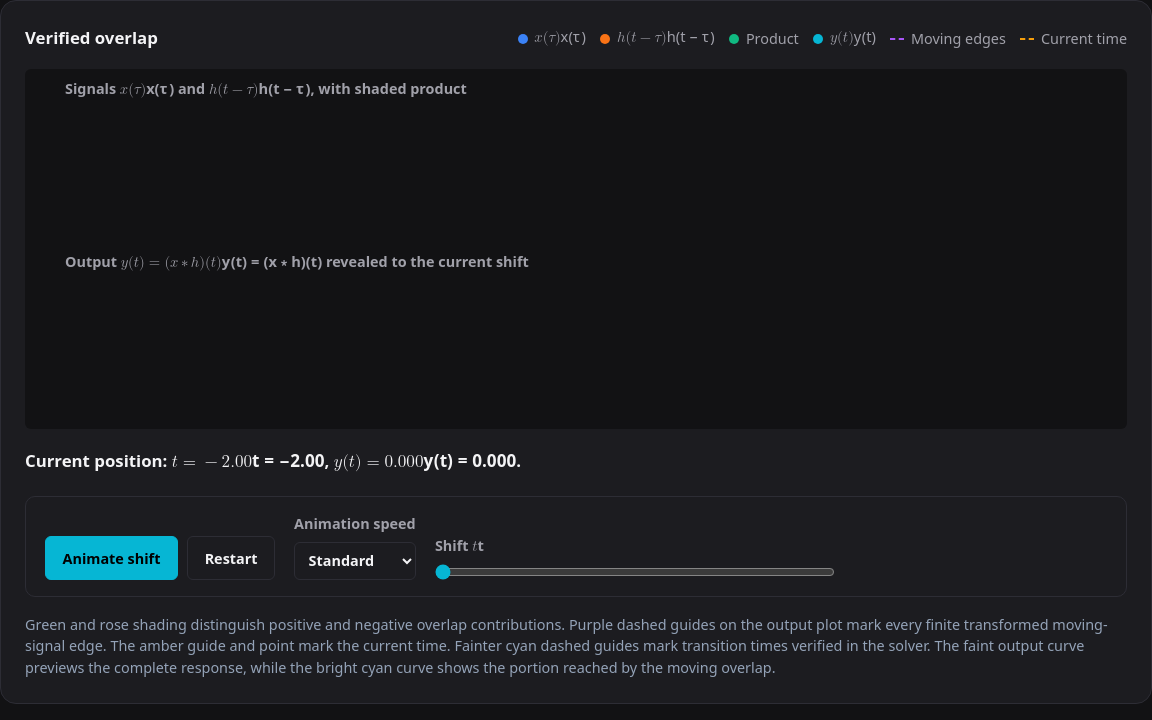
Test: ConvolutionCanvas › renders the instructional plot and supports play, speed, scrub, pause, and restart
Expected: the slider with id "shift-slider" holds "-2", [435, 564, 835, 580]
Expected: the text "Verified overlap" is shown, [25, 25, 158, 52]
Select "Fast" in the dropdown labelled "Animation speed" at {"x": 355, "y": 561}, box [294, 542, 416, 580]
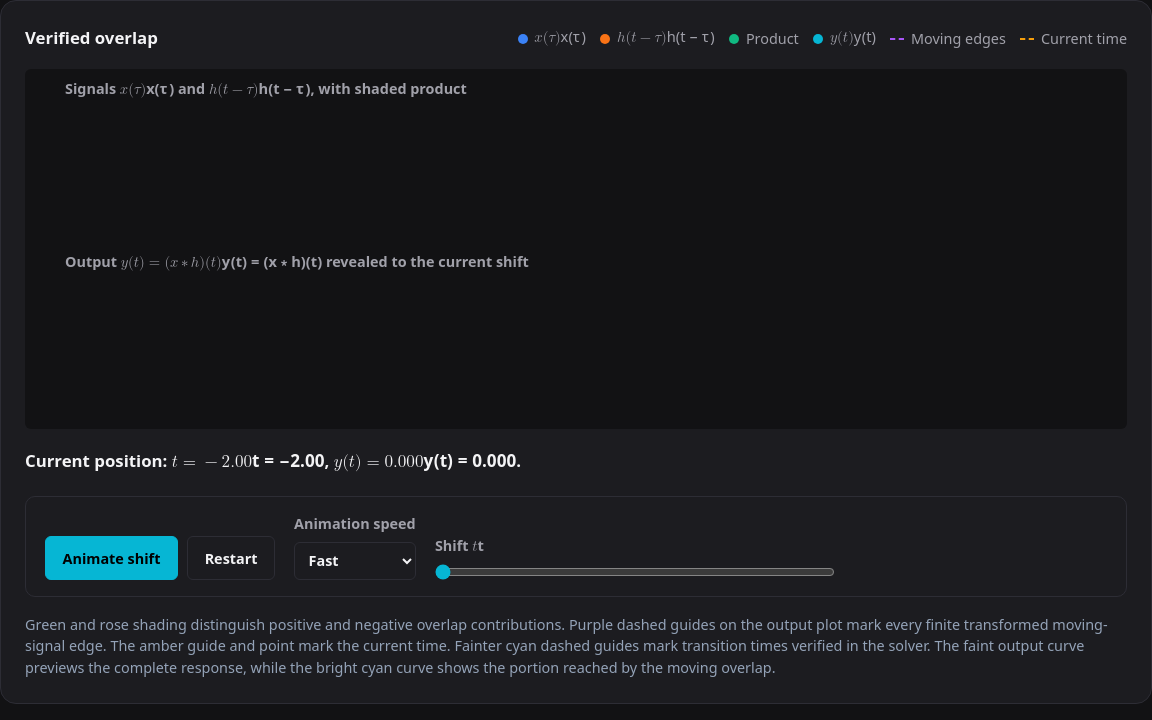
Click the button "Animate shift" at {"x": 111, "y": 558}, box [45, 536, 178, 580]
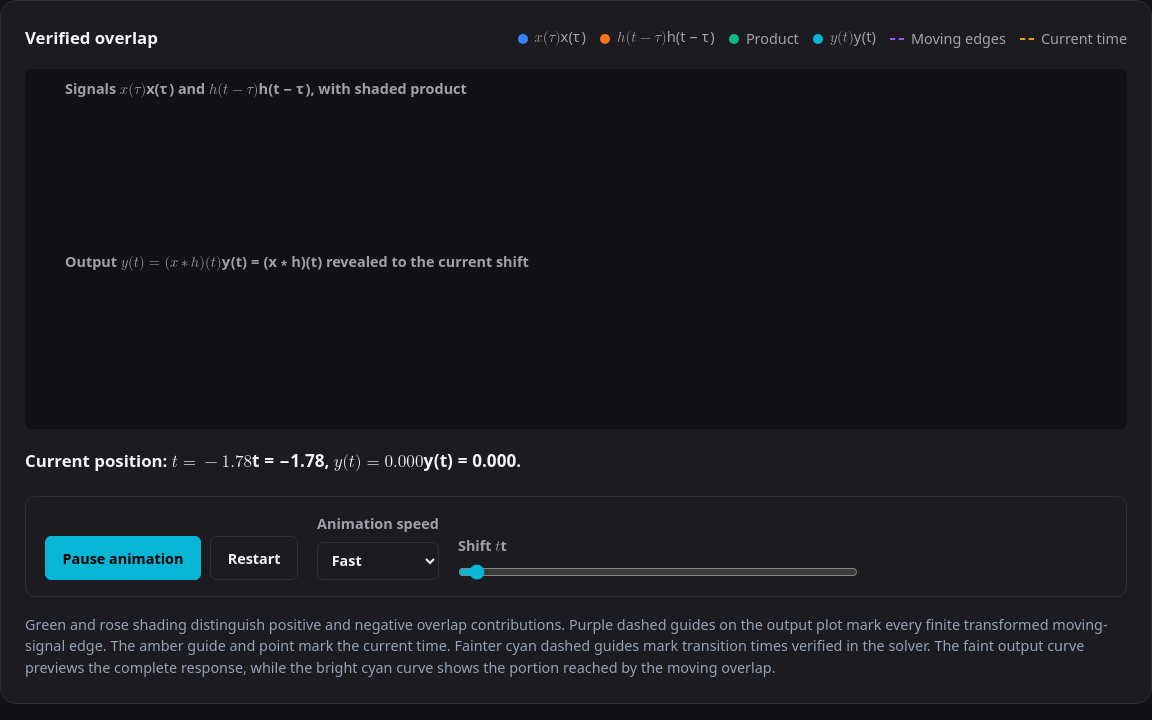
Expected: the button "Pause animation" is shown, [45, 536, 201, 580]
Set the slider with id "shift-slider" to "1" at {"x": 610, "y": 572}, box [458, 564, 858, 580]
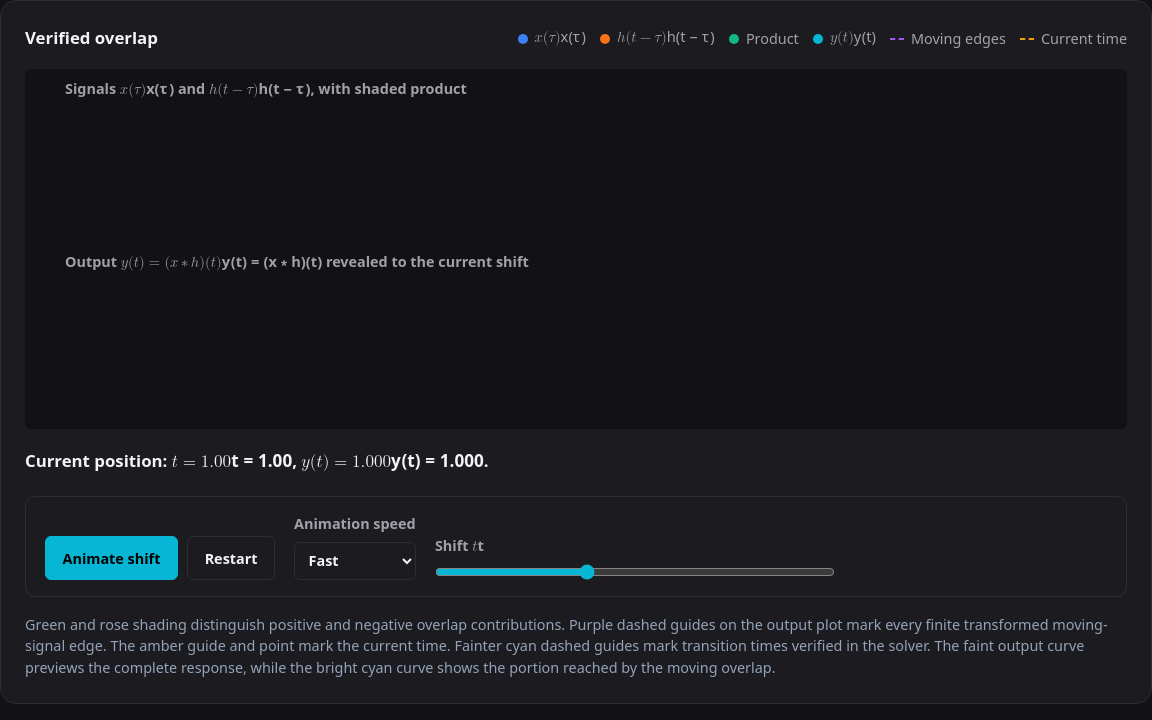
Expected: the button "Animate shift" is shown
Click the button "Animate shift" at {"x": 111, "y": 558}, box [45, 536, 178, 580]
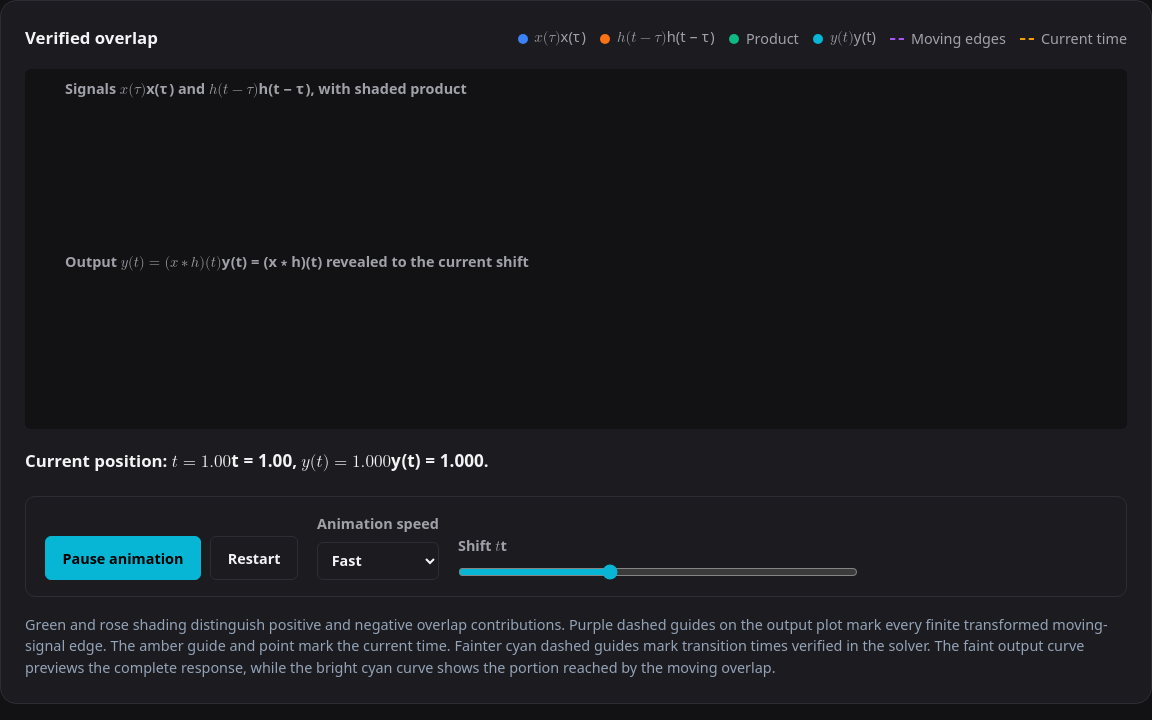
Click the button "Pause animation" at {"x": 123, "y": 558}, box [45, 536, 201, 580]
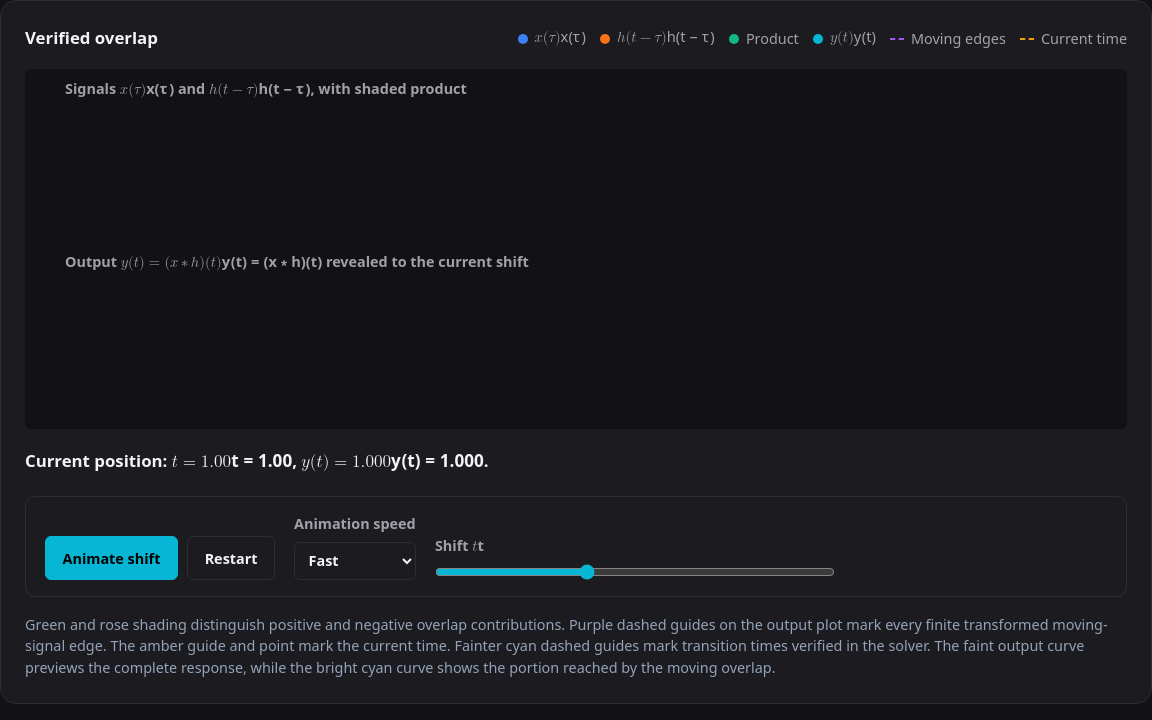
Expected: the button "Animate shift" is shown, [45, 536, 178, 580]
Click the button "Restart" at {"x": 231, "y": 558}, box [187, 536, 275, 580]
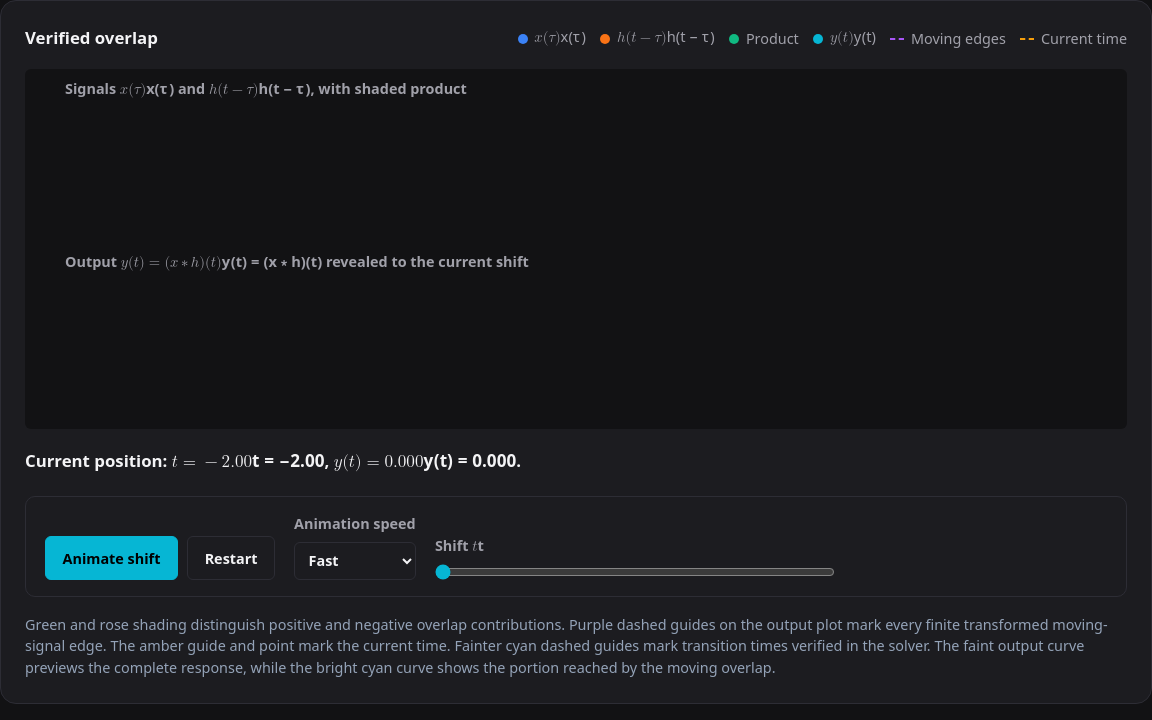
Expected: the slider with id "shift-slider" holds "-2", [435, 564, 835, 580]
